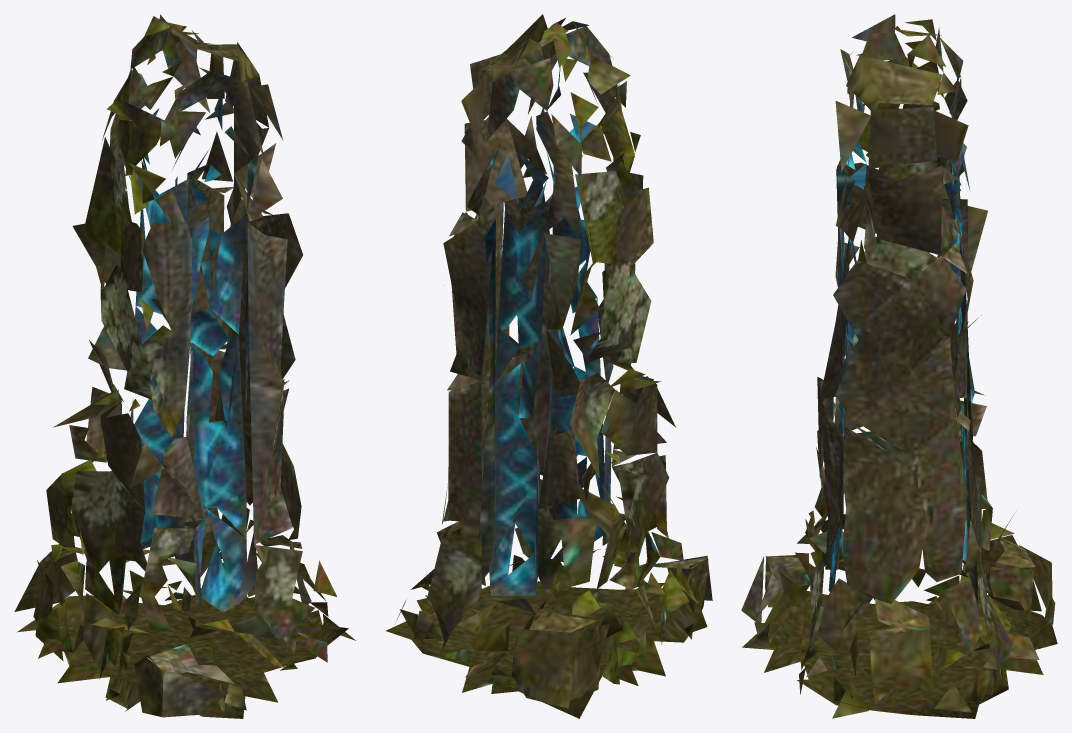
File: runa_lod2.glb
3 views of the same model, side by side, from view 1: azimuth 30°, elevation 25°; view 2: azimuth 150°, elevation 25°; view 3: azimuth 270°, elevation 25° (orthographic). The views are drawn at different scales.
Visible parts, largest first — view 1: runa; view 2: runa; view 3: runa.
Boxes of the visible parts, x1,y1,x2,y2 form: runa: (14, 14, 355, 718); runa: (386, 14, 712, 718); runa: (741, 14, 1057, 718).
Bounding box in the file's own units: 0.9491 × 2.25 × 1.01.
1 material, 1 textured.
